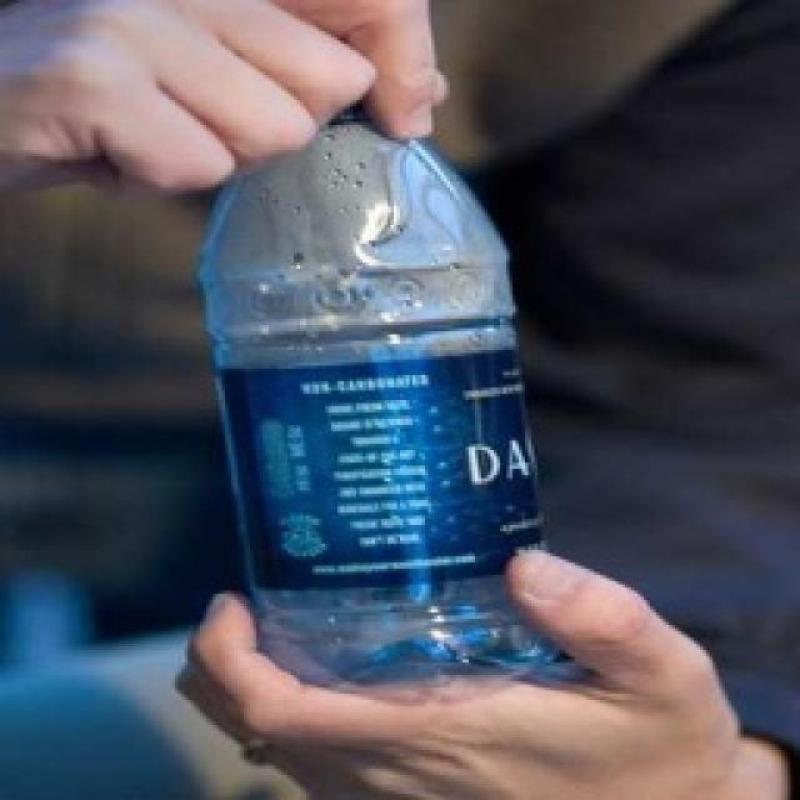botella: (199, 111, 561, 674)
